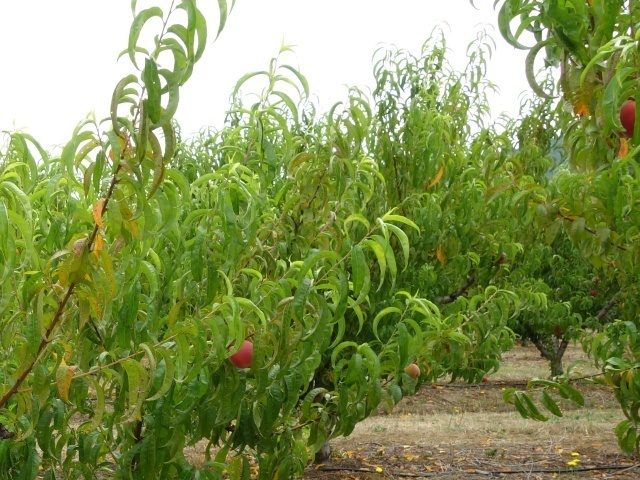peach: (224, 337, 259, 370), (614, 94, 639, 139), (401, 360, 423, 381)
